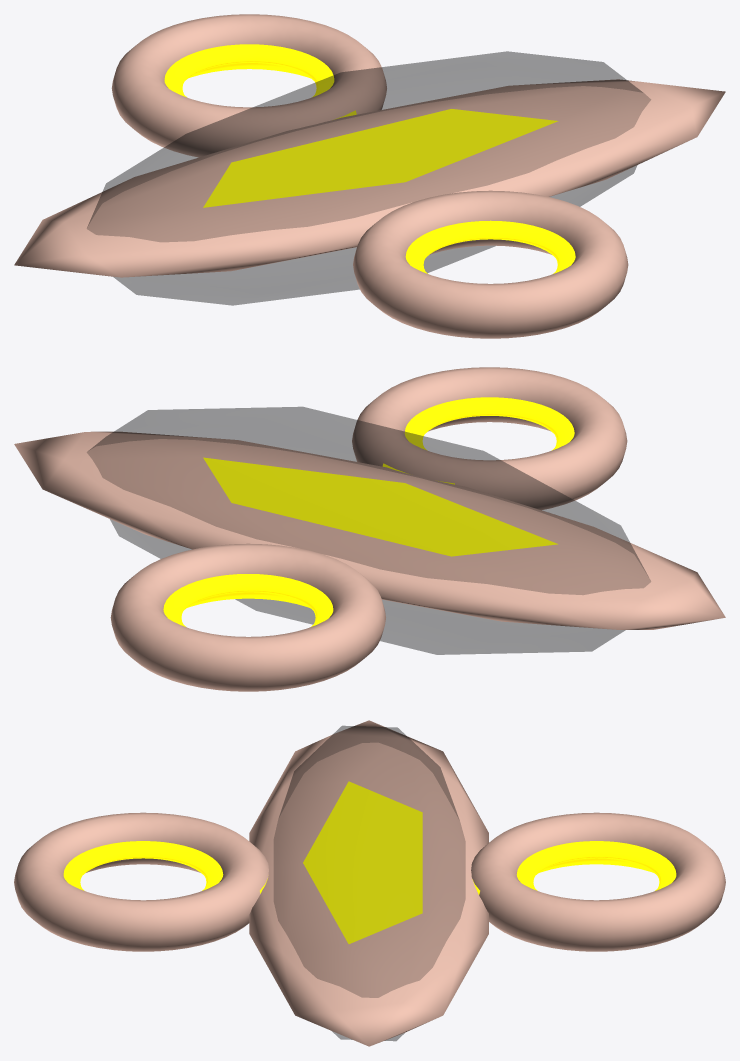
File: drone3.glb
3 views of the same model, one above another, from view 1: azimuth 30°, elevation 25°; view 2: azimuth 150°, elevation 25°; view 3: azimuth 270°, elevation 25° (orthographic). The views are drawn at different scales.
Visible parts, largest first — view 1: Drone 3; view 2: Drone 3; view 3: Drone 3.
Part boxes in pixels (x1,y1,x2,y2): Drone 3: [14, 14, 725, 338]; Drone 3: [14, 367, 725, 691]; Drone 3: [14, 720, 725, 1046].
Bounding box in the file's own units: 13.45 × 3.6 × 12.39.
